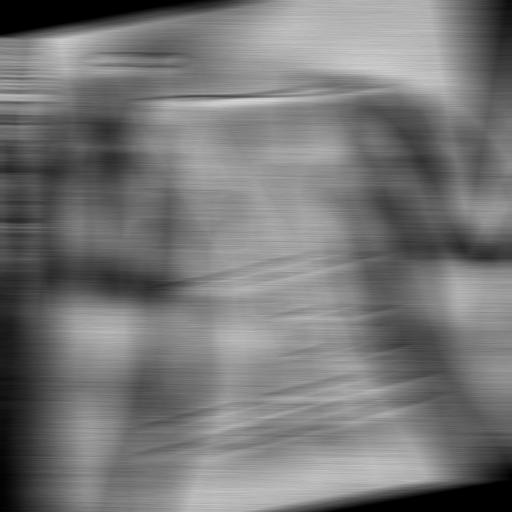house: (56, 0, 512, 491)
